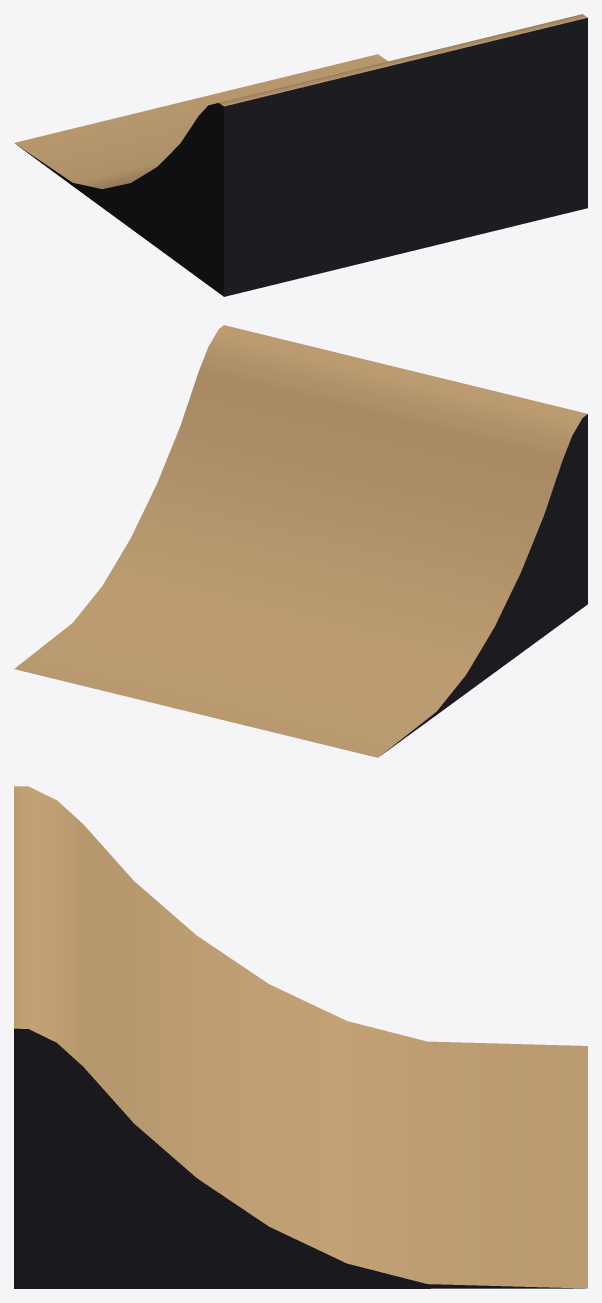
File: Quater_LRG_Drop_Full.fbx
3 renders of one model, top to bottom at view 1: azimuth 30°, elevation 25°; view 2: azimuth 150°, elevation 25°; view 3: azimuth 270°, elevation 25°, orthographic. The views are drawn at different scales.
Visible parts, largest first — view 1: Quater_LRG_Drop_Full; view 2: Quater_LRG_Drop_Full; view 3: Quater_LRG_Drop_Full.
Part boxes in pixels (<box>): Quater_LRG_Drop_Full: <box>14,14,587,296</box>; Quater_LRG_Drop_Full: <box>14,325,587,757</box>; Quater_LRG_Drop_Full: <box>14,786,587,1288</box>.
Bounding box in the file's own units: 20 × 10 × 20.
